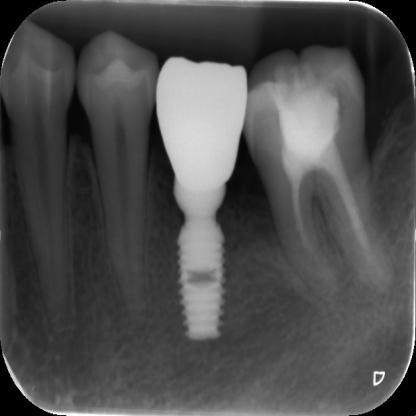Bicon: (172, 180, 236, 340)
